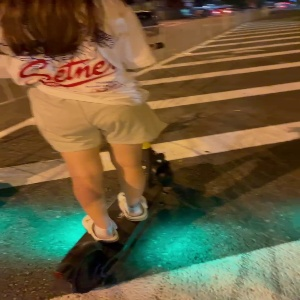human on a scooter: (1, 1, 177, 294)
